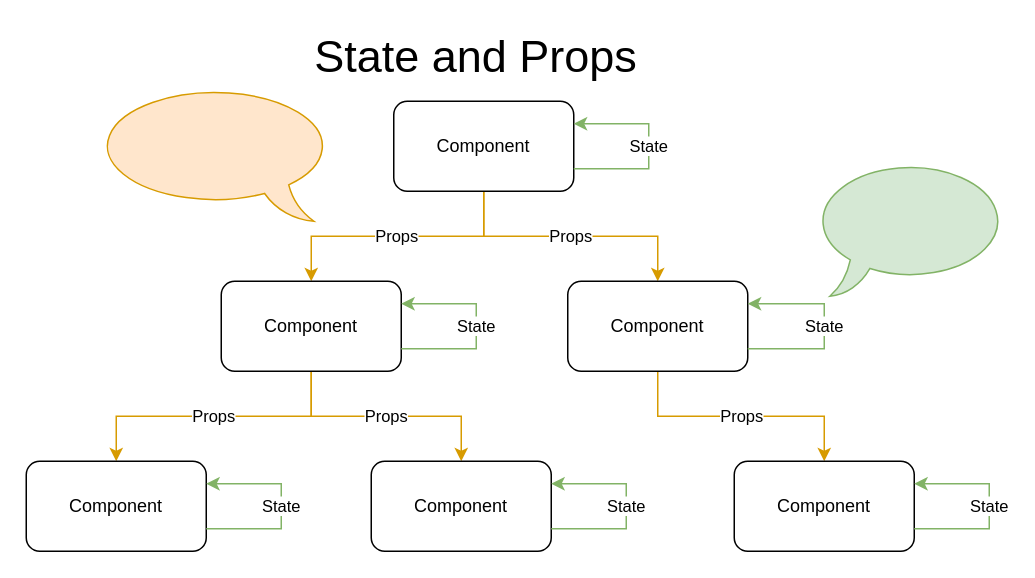
The diagram is 1035 pixels wide and 578 high, and some of its shapes have lost their labels. Each missing label, with the centre of its shape:
"Props are passed into a component" belongs at point (213, 153).
"State stays within a component" belongs at point (910, 228).
